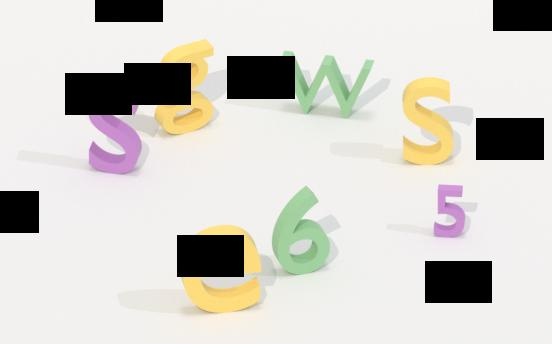5: (432, 178, 467, 247)
6: (267, 183, 335, 276)
e: (180, 219, 264, 318)
g: (153, 36, 216, 137)
s: (78, 81, 143, 177), (400, 73, 459, 170)
w: (279, 47, 376, 121)
